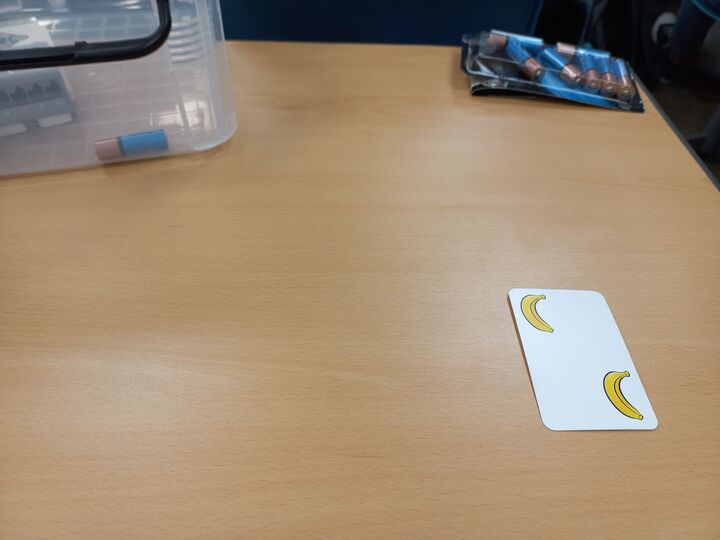banana2: (507, 286, 663, 435)
